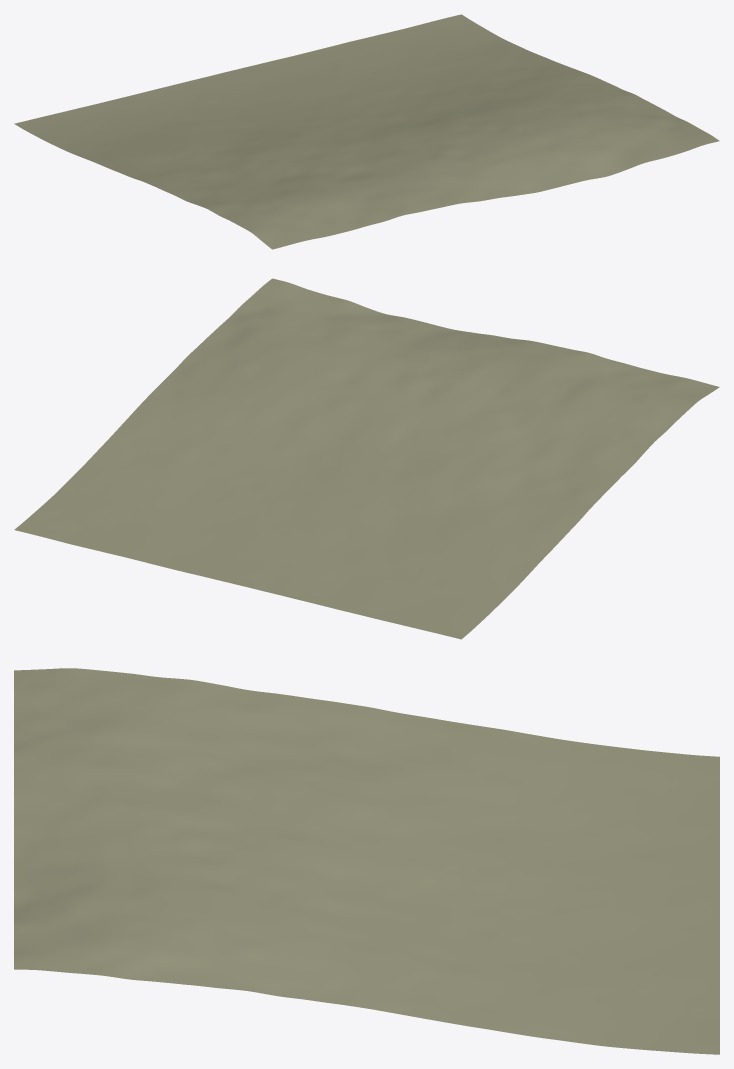
Rendered from SM_VB_CityTerrain_4_6.fbx.
The picture shows the model from 3 angles, top to bottom: view 1: azimuth 30°, elevation 25°; view 2: azimuth 150°, elevation 25°; view 3: azimuth 270°, elevation 25°; orthographic projection. The views are drawn at different scales.
Parts seen in each view (by area): view 1: SM_VB_CityTerrain_4_6; view 2: SM_VB_CityTerrain_4_6; view 3: SM_VB_CityTerrain_4_6.
Part boxes in pixels (left/top/right/bottom): SM_VB_CityTerrain_4_6: left=14, top=14, right=719, bottom=249; SM_VB_CityTerrain_4_6: left=14, top=278, right=719, bottom=639; SM_VB_CityTerrain_4_6: left=14, top=668, right=719, bottom=1054.
Bounding box in the file's own units: 600 × 84.44 × 600.
